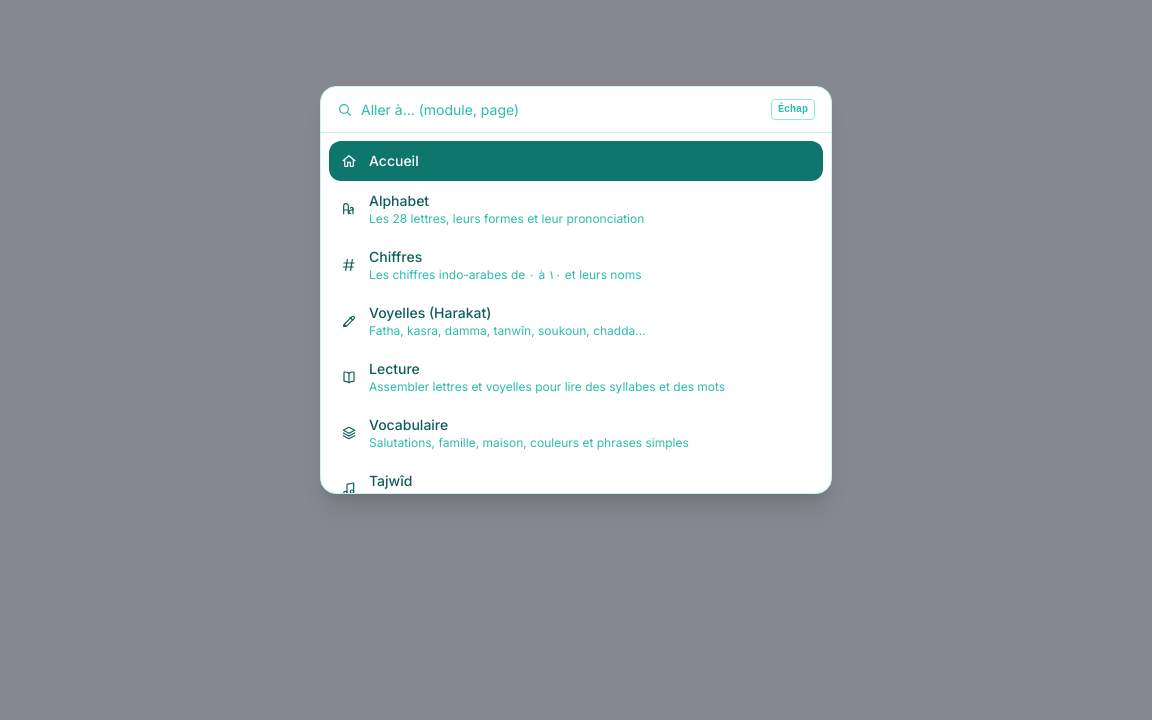
Test: CommandPalette › trouve une sourate par son nom translittéré
Type "Ikhlaas" into the field with placeholder "Aller à… (module, page)" at (562, 110), box [361,100,763,120]
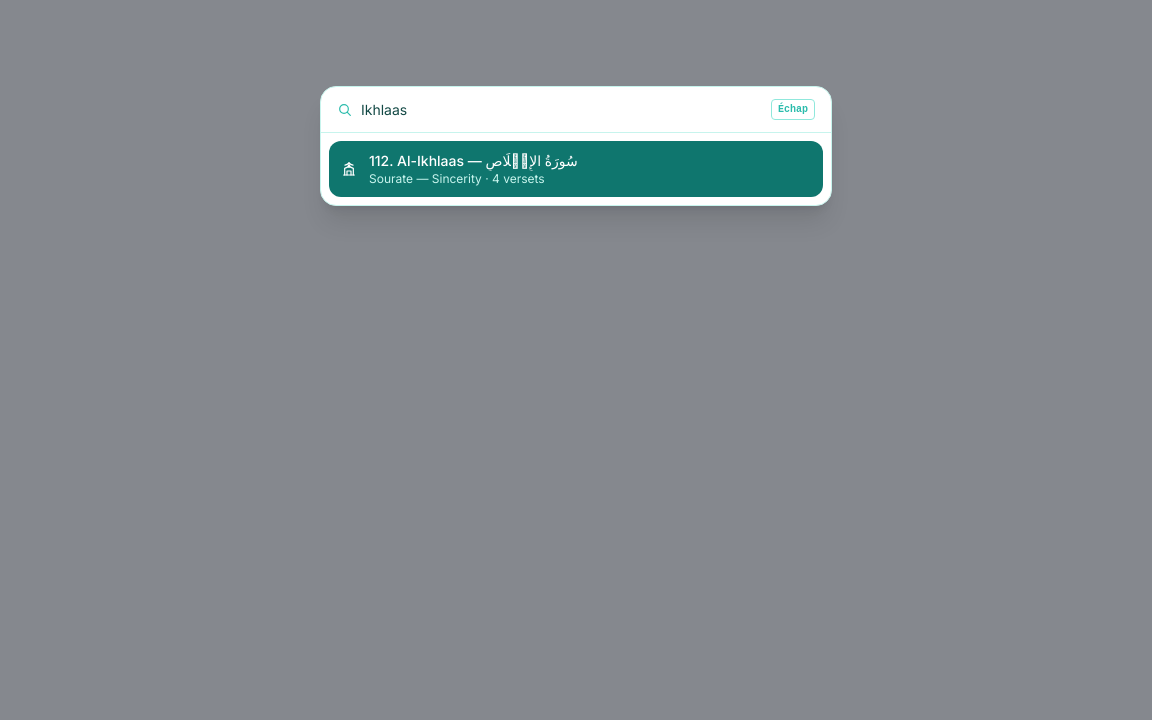
Expected: the text "112. Al-Ikhlaas — سُورَةُ الإِخۡلَاصِ" is shown, [369,152,578,169]
